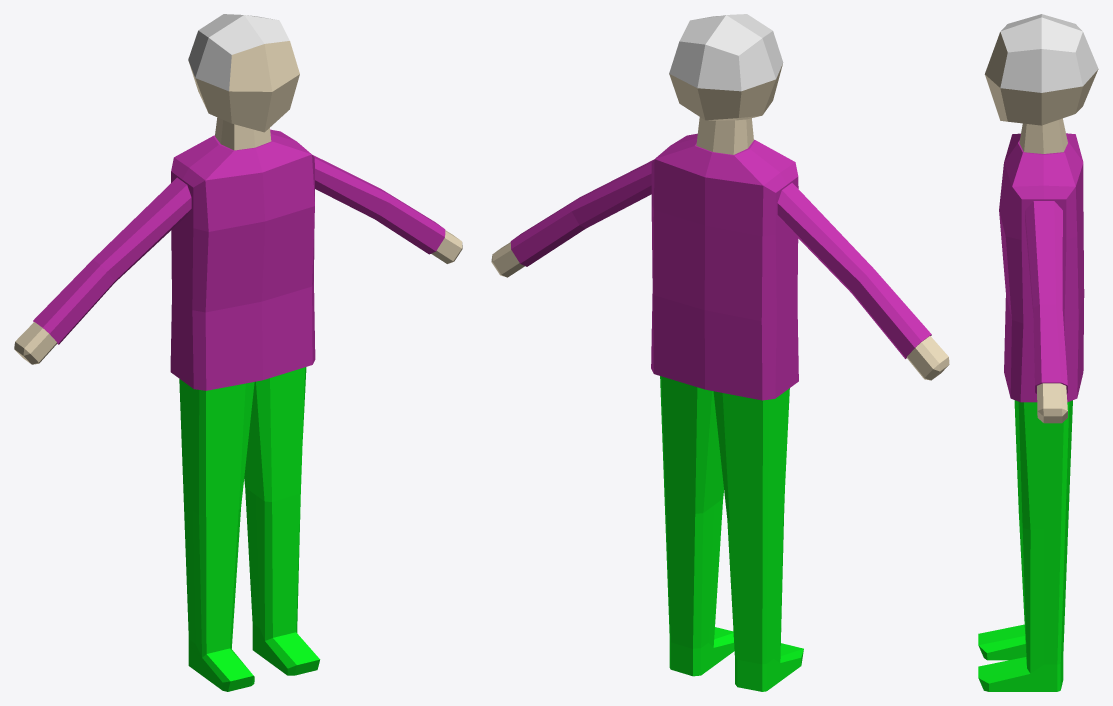
The model's file is LowpolyPersoWithout (3).fbx.
The picture shows the model from 3 angles, left to right: view 1: azimuth 30°, elevation 25°; view 2: azimuth 150°, elevation 25°; view 3: azimuth 270°, elevation 25°; orthographic projection. The views are drawn at different scales.
Parts seen in each view (by area): view 1: eRNESTO; view 2: eRNESTO; view 3: eRNESTO.
Part boxes in pixels (box(x1,y1,x2,y2)): eRNESTO: box(14, 14, 462, 691); eRNESTO: box(491, 14, 949, 691); eRNESTO: box(978, 14, 1098, 691).
Size of the model in its own units: 755 by 1060 by 177.
